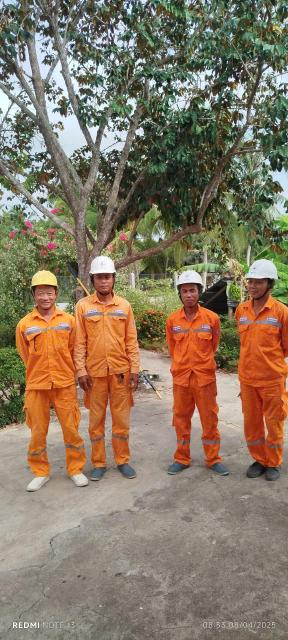helmet: (243, 257, 280, 287), (87, 250, 120, 280), (28, 267, 62, 292), (174, 269, 206, 295)
shoes: (198, 452, 234, 486), (21, 467, 60, 498), (163, 450, 196, 479), (62, 464, 91, 495), (111, 453, 140, 484), (243, 452, 265, 492), (86, 457, 112, 487), (263, 457, 287, 488)
